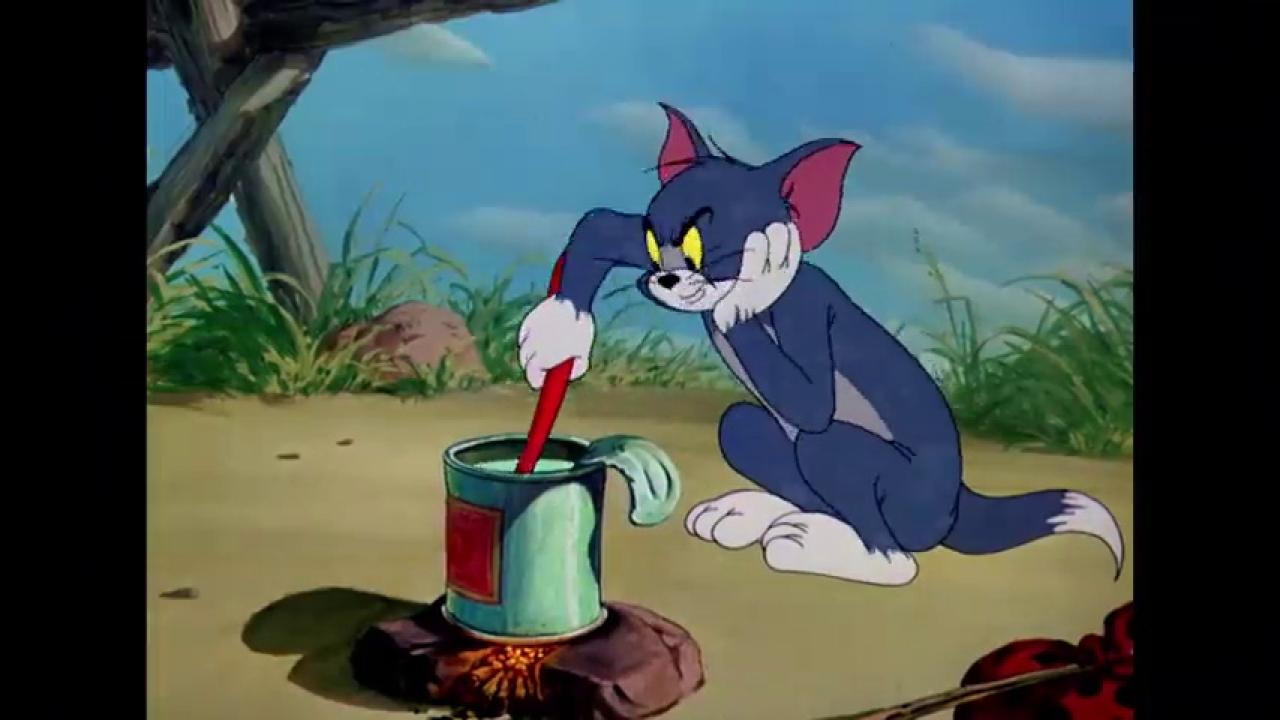Tom: (518, 99, 1125, 586)
